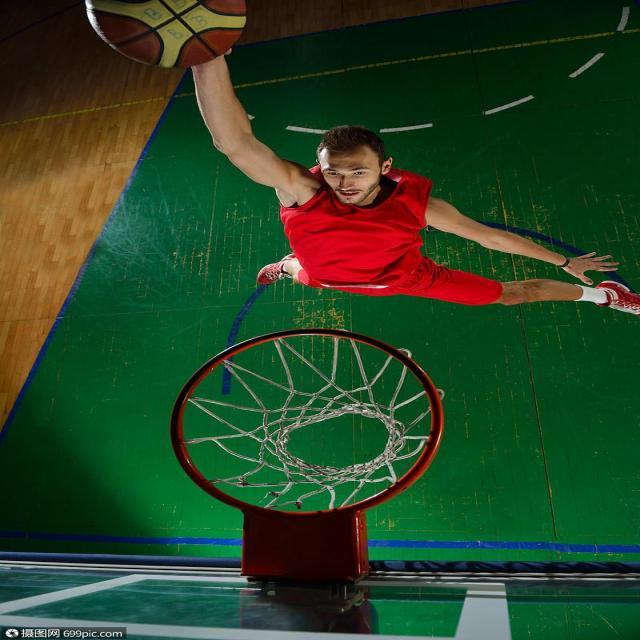rim: (82, 0, 260, 64)
